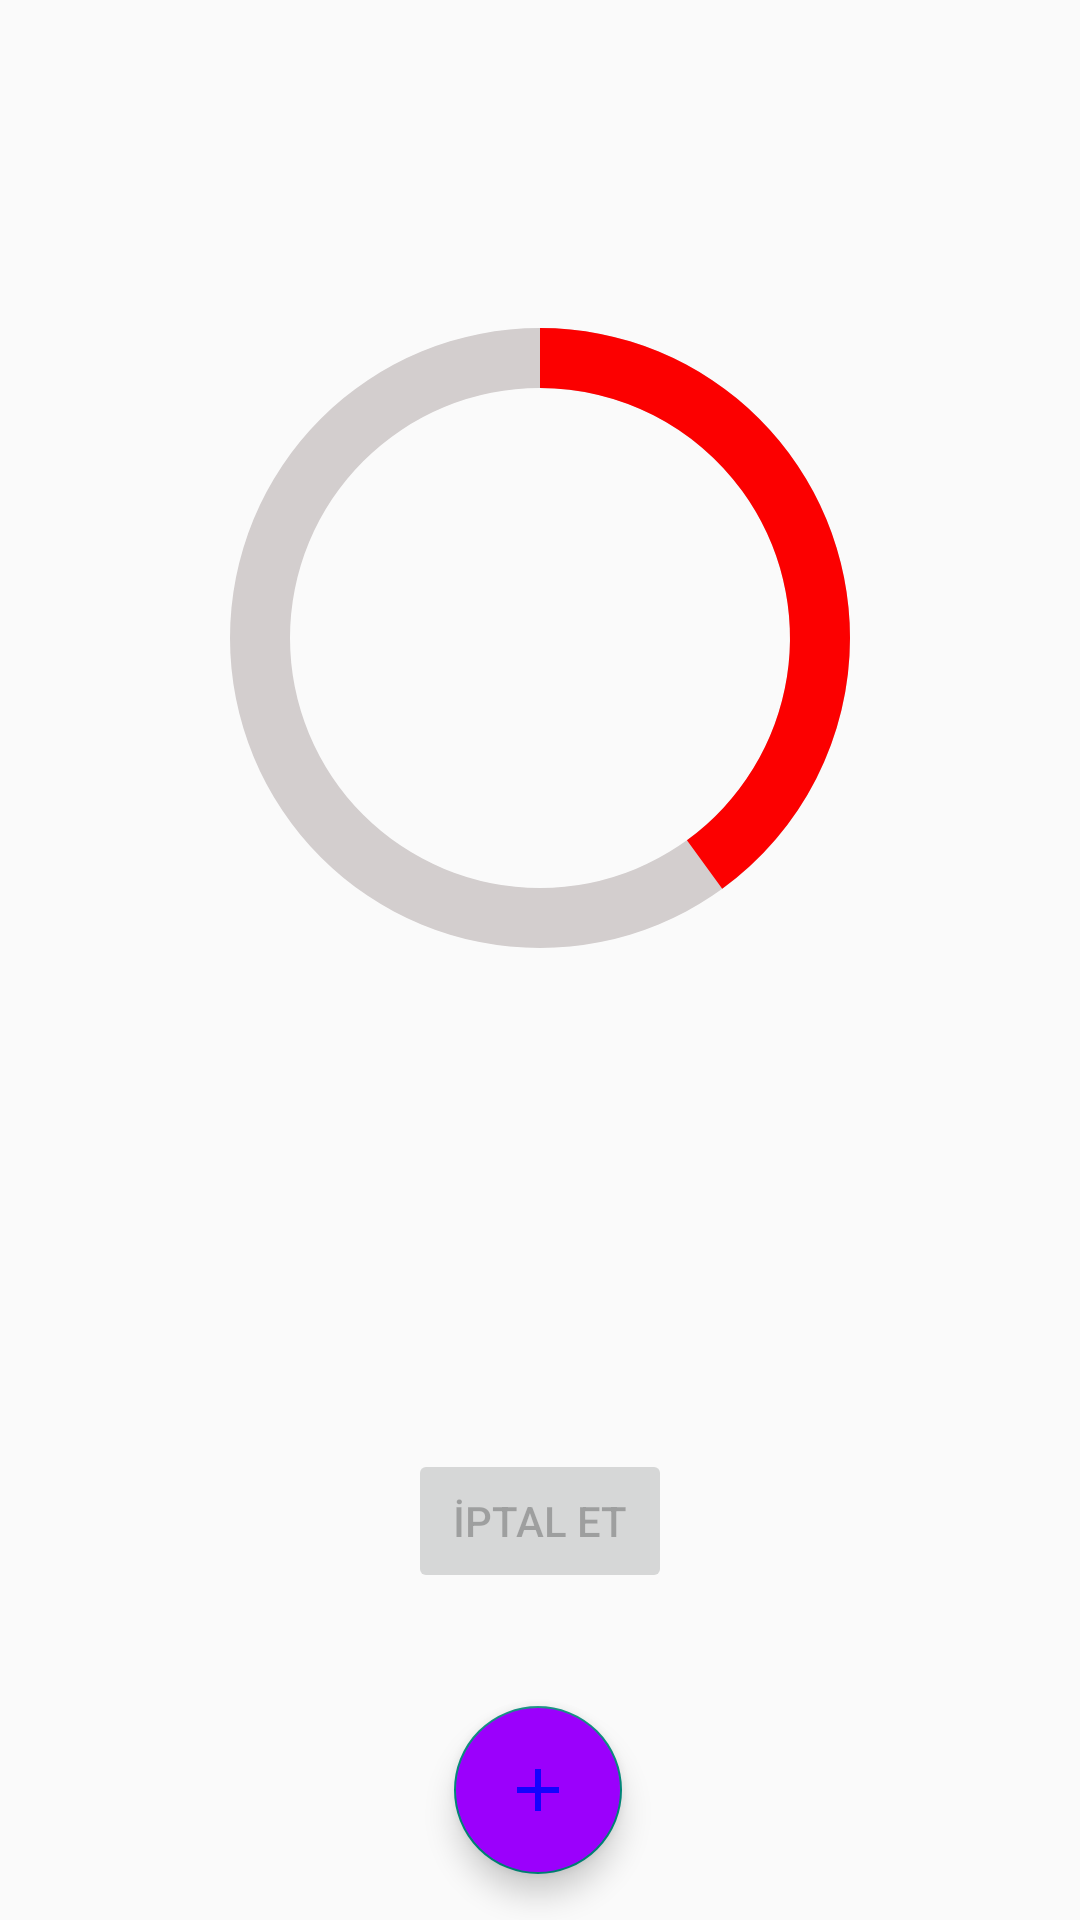

Locate icon controls on the screen. Image size 1080px x 1920px, boxes as (x1,y1,x2,y2).
add: (454,1706,622,1874)
